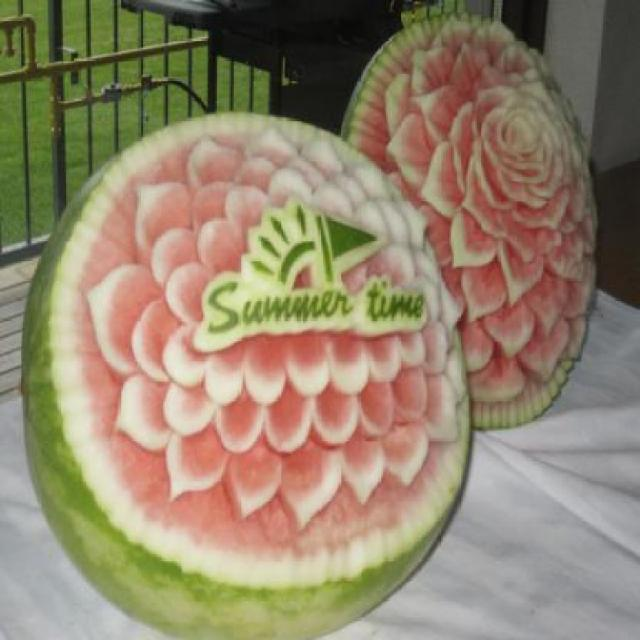Watermelon: (21, 114, 474, 638), (340, 10, 602, 433)
